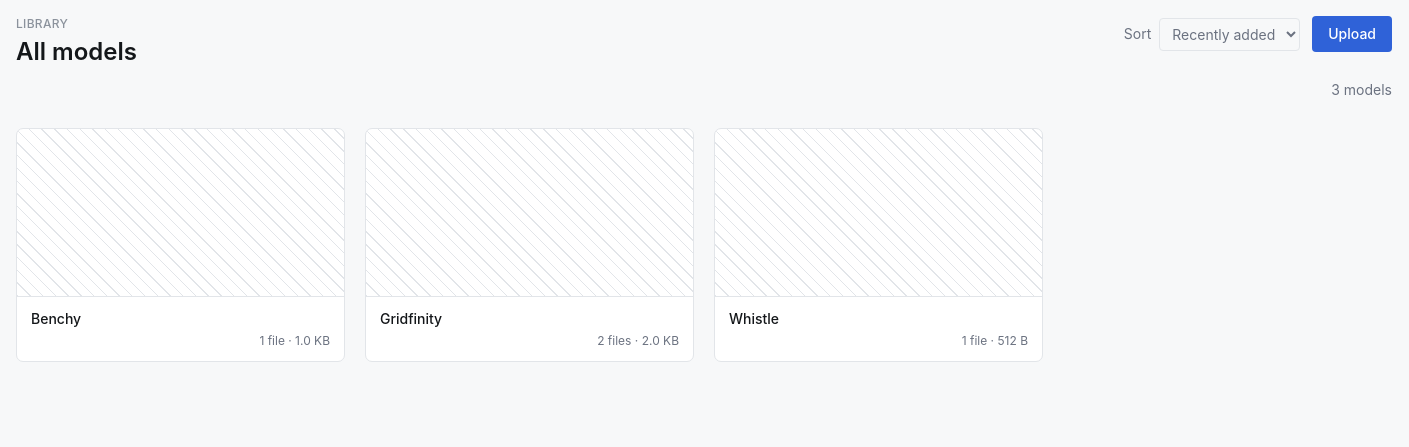
library page bulk actions › toggles a tile off with a second ctrl-click
Expected: the heading "Benchy" is shown, [31,310,81,327]
Click the link "Benchy 1 file · 1.0 KB": (180, 245) [16,128,345,362]
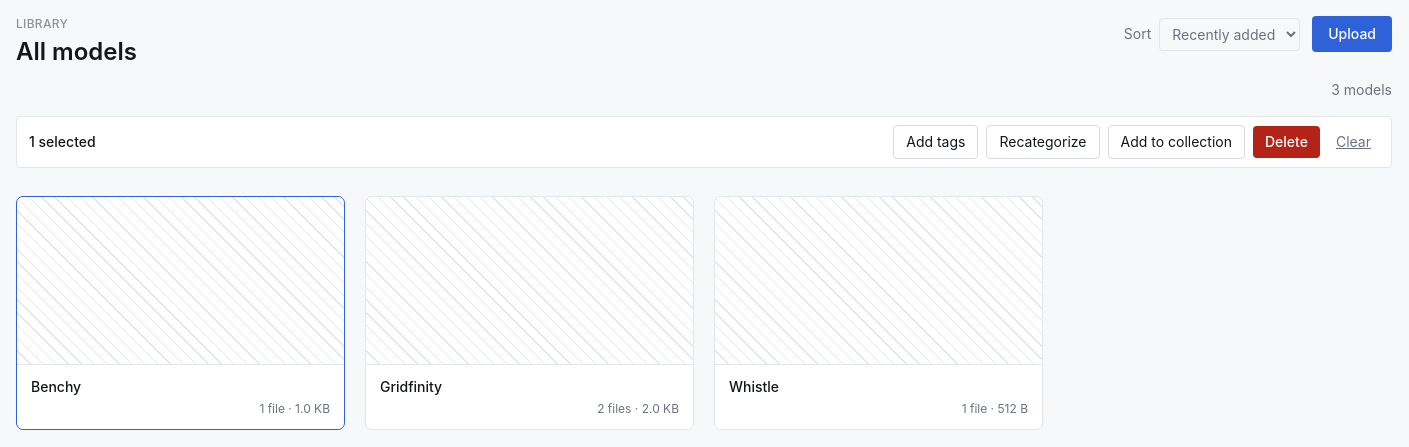
Click the link "Gridfinity 2 files · 2.0 KB": (530, 313) [365,196,694,430]
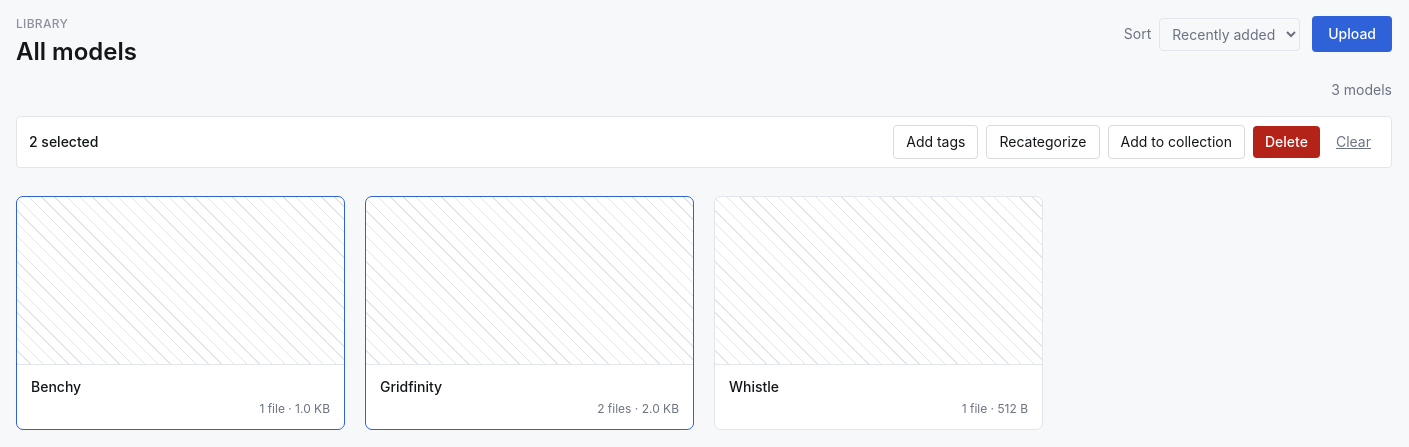
Expected: the text "2 selected" is shown, [29,132,98,152]
Click the link "Benchy 1 file · 1.0 KB": (180, 313) [16,196,345,430]
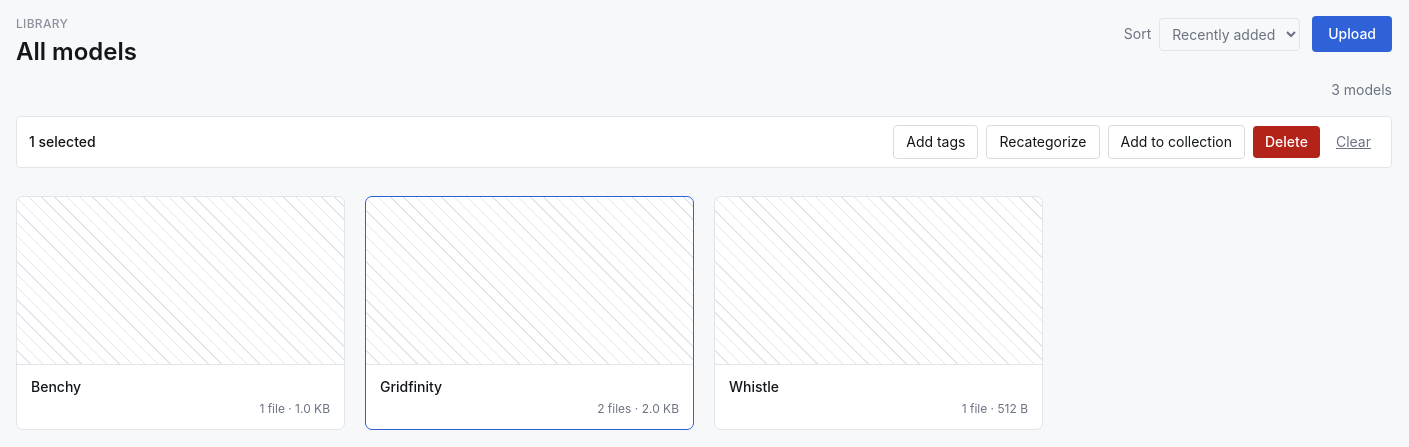
Expected: the text "1 selected" is shown, [29,132,96,152]
